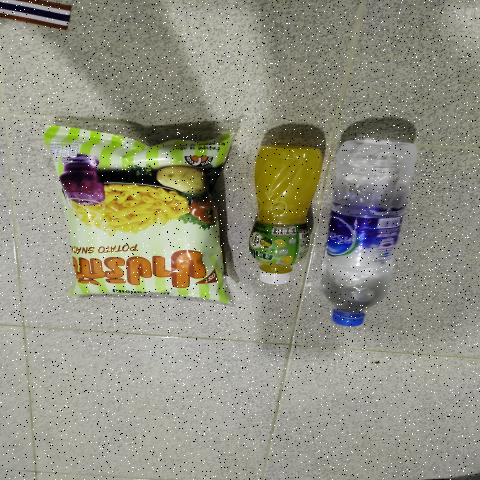crystal: (325, 125, 389, 311)
paprika: (68, 132, 219, 292)
